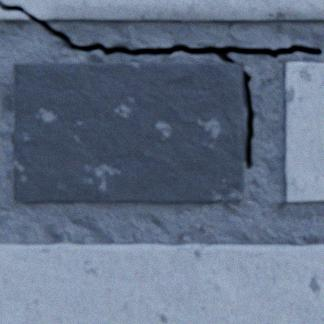brick: (13, 62, 244, 202), (0, 243, 323, 323), (285, 62, 323, 201)
broken_brick: (2, 0, 323, 20), (0, 5, 30, 20)
crack: (0, 0, 322, 62), (243, 70, 254, 170)
